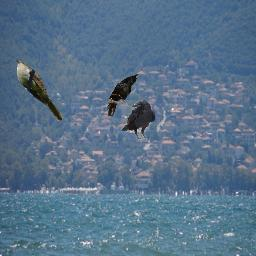Crow: (106, 73, 140, 116), (121, 100, 155, 142)
Cuckoo: (16, 59, 63, 121)
